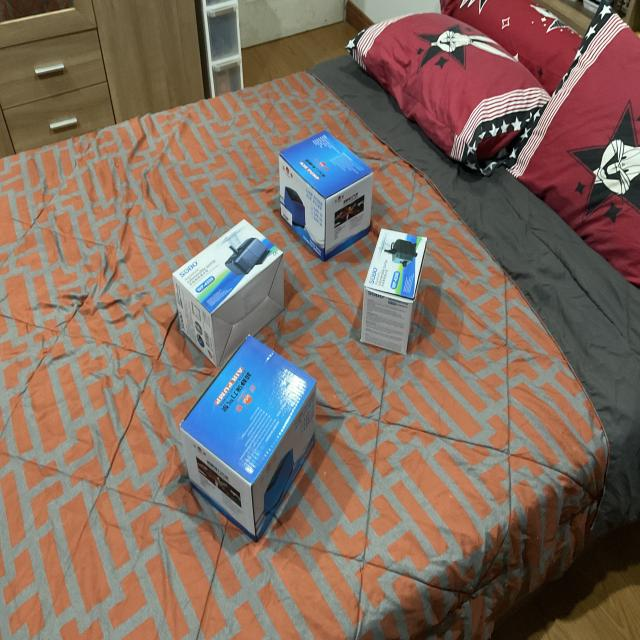SOBO_WP_4200: (171, 213, 290, 367), (357, 222, 439, 366)
YAMANO_LPP_20: (175, 346, 323, 556), (275, 116, 376, 264)
